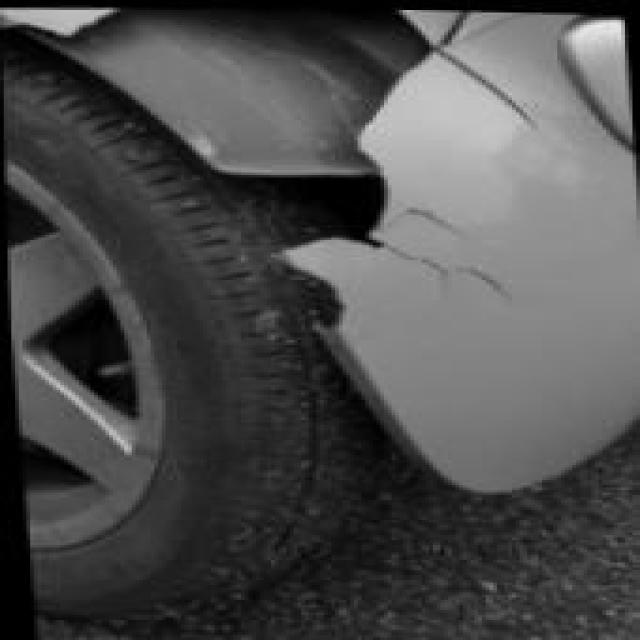Bumper: (14, 6, 640, 488)
